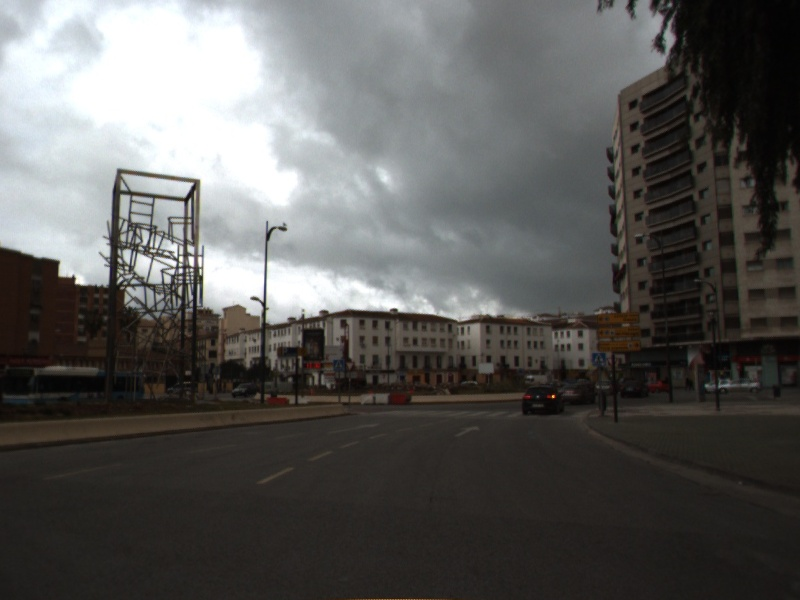STRAIGHT: (325, 421, 382, 435), (452, 424, 482, 439)
